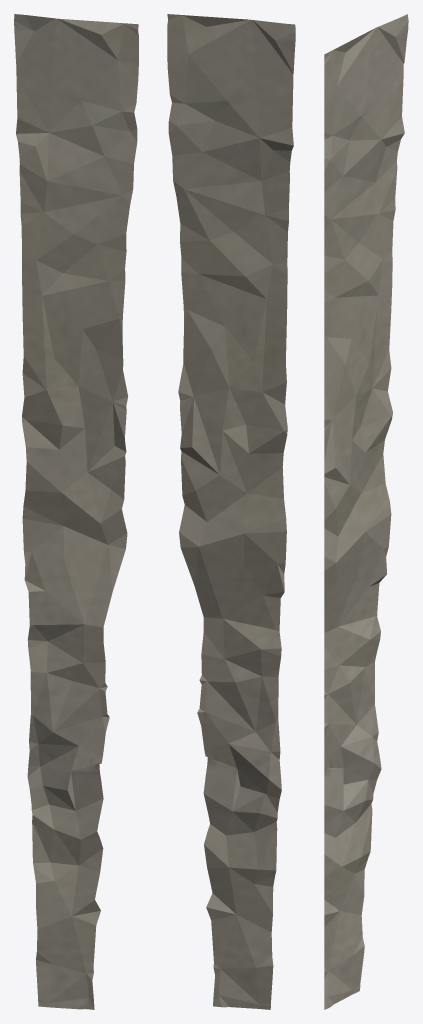
3 views of the same model, side by side, from view 1: azimuth 30°, elevation 25°; view 2: azimuth 210°, elevation 25°; view 3: azimuth 270°, elevation 25° (orthographic). The views are drawn at different scales.
Size of the model in its own units: 0.0745 by 0.8374 by 0.0654.
1 material, 1 textured.
